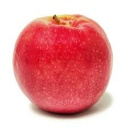apple: (12, 13, 114, 115)
